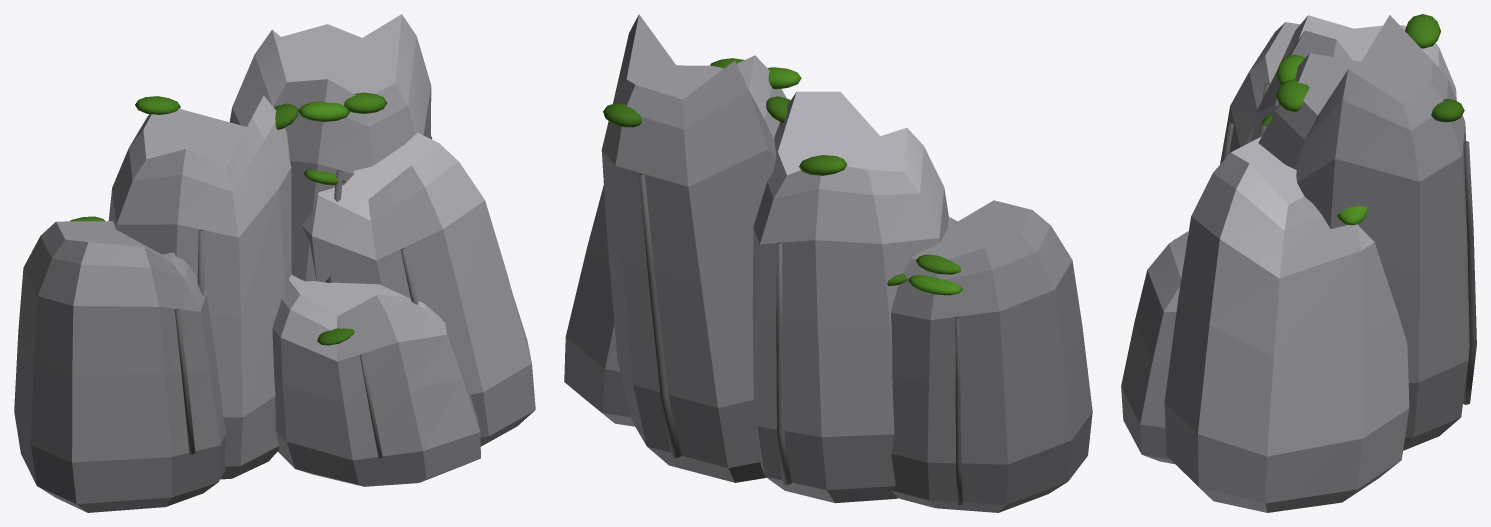
The model's file is cliff-rock.glb.
3 renders of one model, left to right at view 1: azimuth 30°, elevation 25°; view 2: azimuth 150°, elevation 25°; view 3: azimuth 270°, elevation 25°, orthographic. The views are drawn at different scales.
Visible parts, largest first — view 1: cliff-rock; view 2: cliff-rock; view 3: cliff-rock.
Part boxes in pixels (x1=…): cliff-rock: x1=14, y1=14, x2=535, y2=512; cliff-rock: x1=564, y1=14, x2=1092, y2=512; cliff-rock: x1=1121, y1=14, x2=1476, y2=512.
Bounding box in the file's own units: 4.5 × 3.4 × 2.7.
